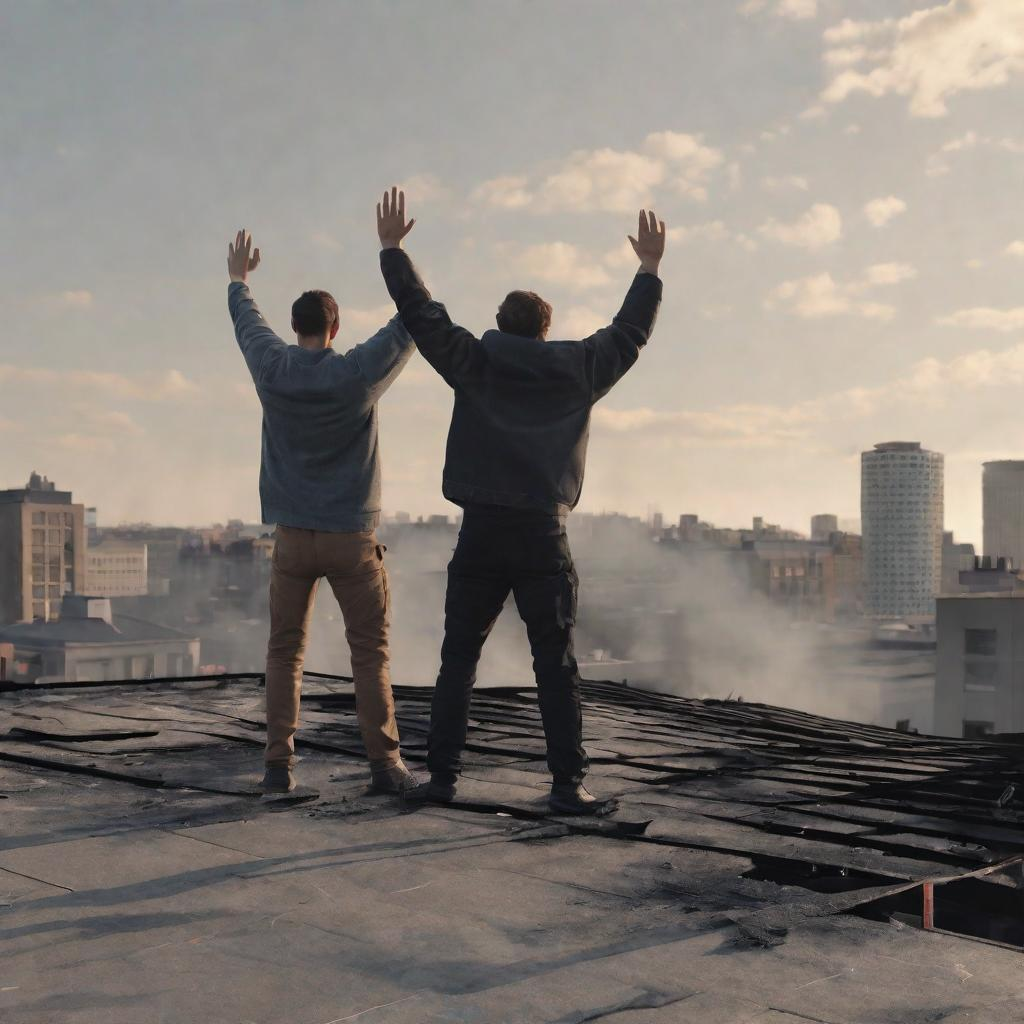victim: (366, 180, 670, 826), (220, 214, 432, 805)
